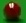brown: (0, 0, 26, 23)
